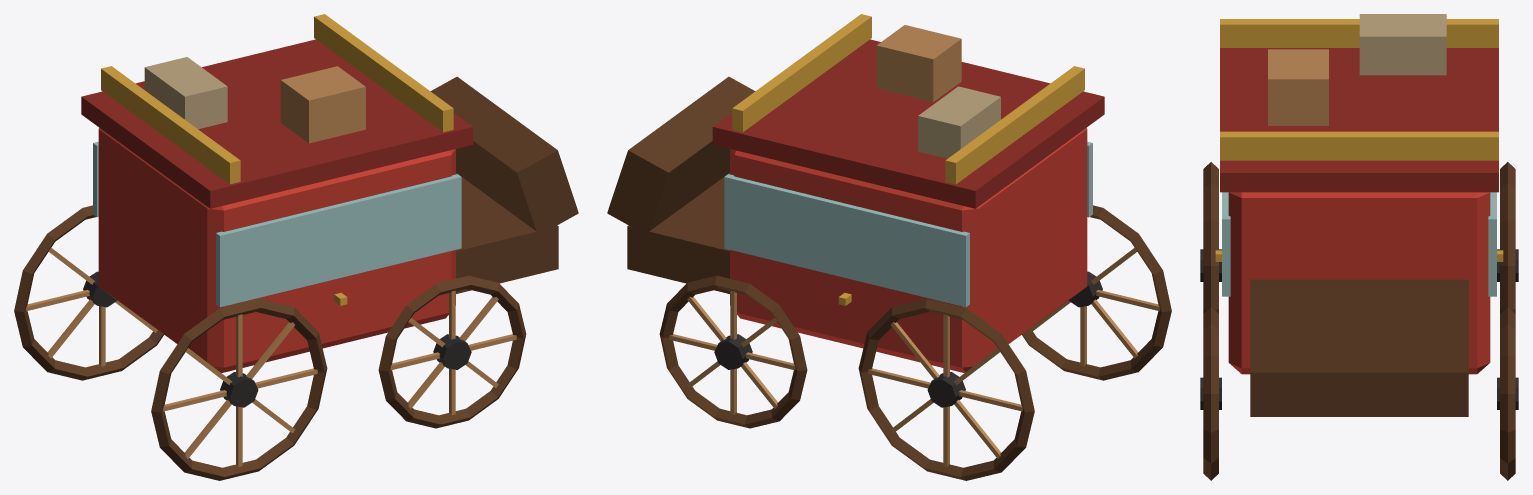
File: Stagecoach.fbx
3 renders of one model, left to right at view 1: azimuth 30°, elevation 25°; view 2: azimuth 150°, elevation 25°; view 3: azimuth 270°, elevation 25°, orthographic. The views are drawn at different scales.
Parts seen in each view (by area): view 1: Body, Detail, Wheels; view 2: Body, Detail, Wheels; view 3: Body, Detail, Wheels.
Part boxes in pixels (x1=…): Body: x1=81, y1=39, x2=578, y2=372; Detail: x1=93, y1=14, x2=461, y2=307; Wheels: x1=14, y1=205, x2=526, y2=480; Body: x1=607, y1=39, x2=1104, y2=372; Detail: x1=724, y1=14, x2=1092, y2=307; Wheels: x1=659, y1=205, x2=1171, y2=480; Body: x1=1220, y1=48, x2=1498, y2=416; Detail: x1=1215, y1=14, x2=1503, y2=296; Wheels: x1=1200, y1=162, x2=1518, y2=480.
Bounding box in the file's own units: 14 × 10 × 8.
